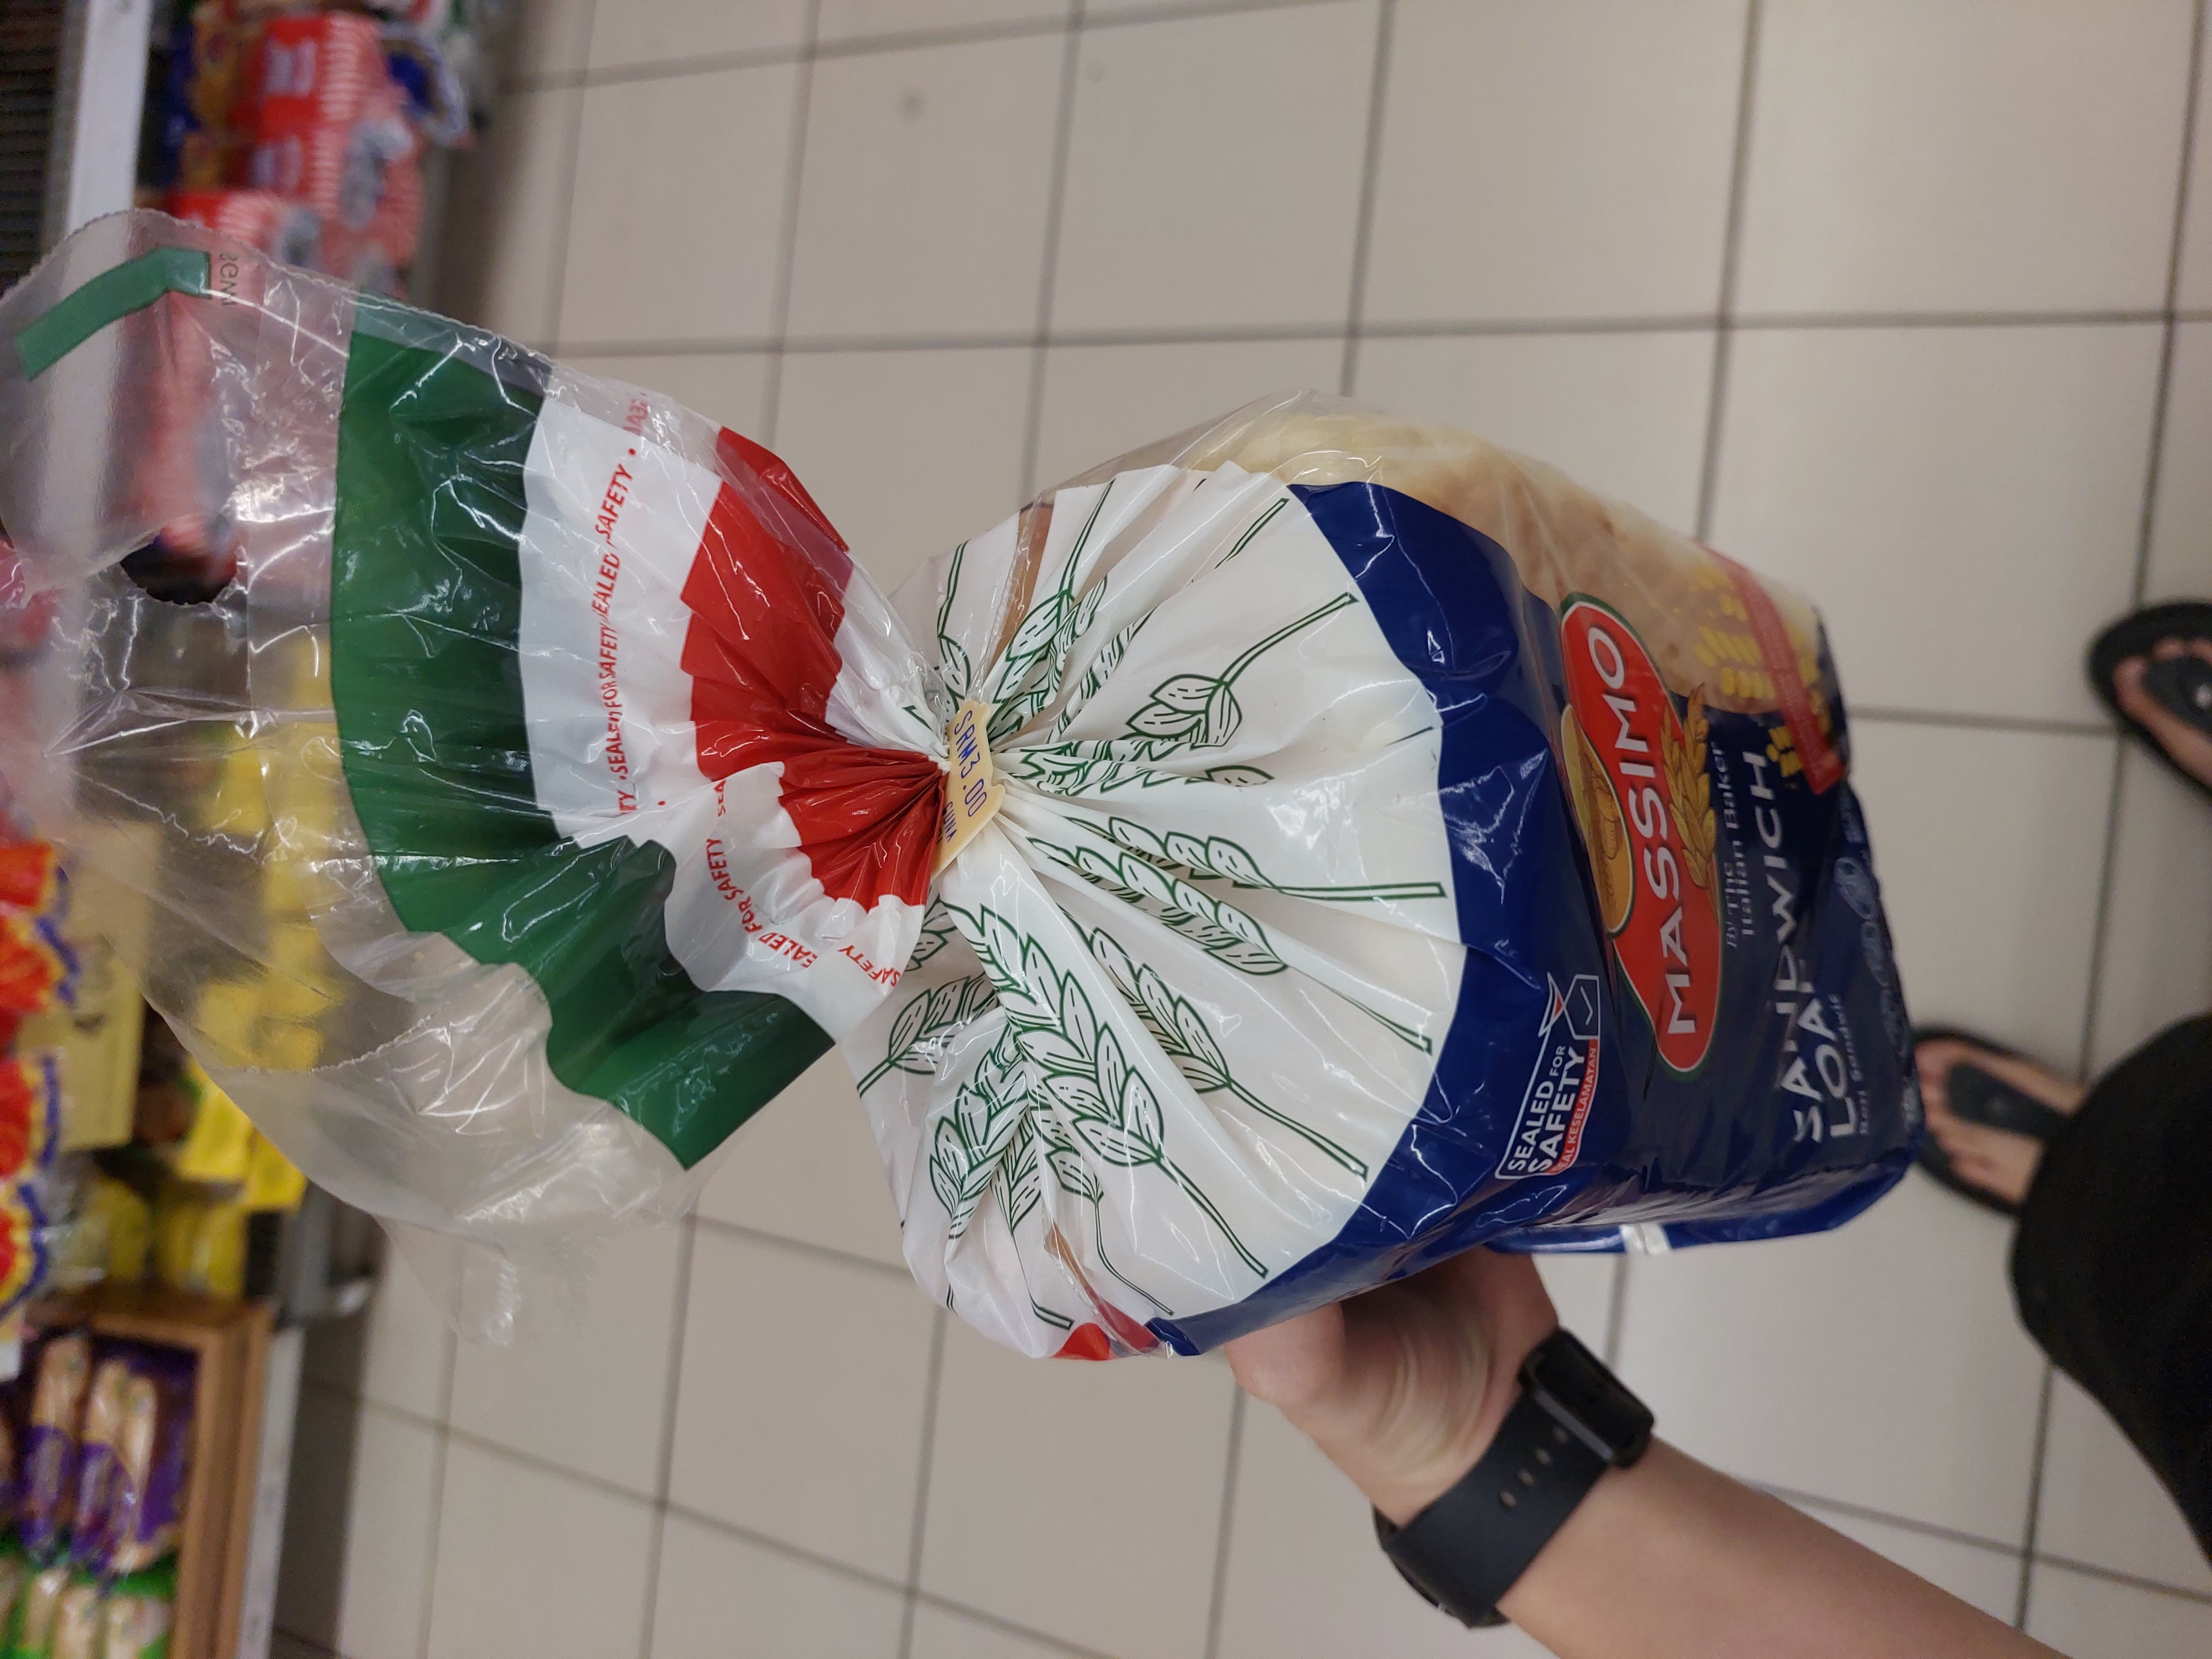bread: (329, 282, 1937, 1366)
